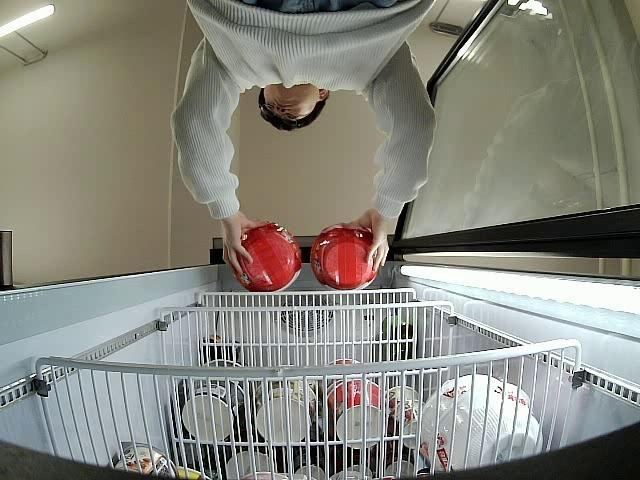10_wangTtukkeong: (308, 222, 378, 292), (240, 222, 303, 291)
